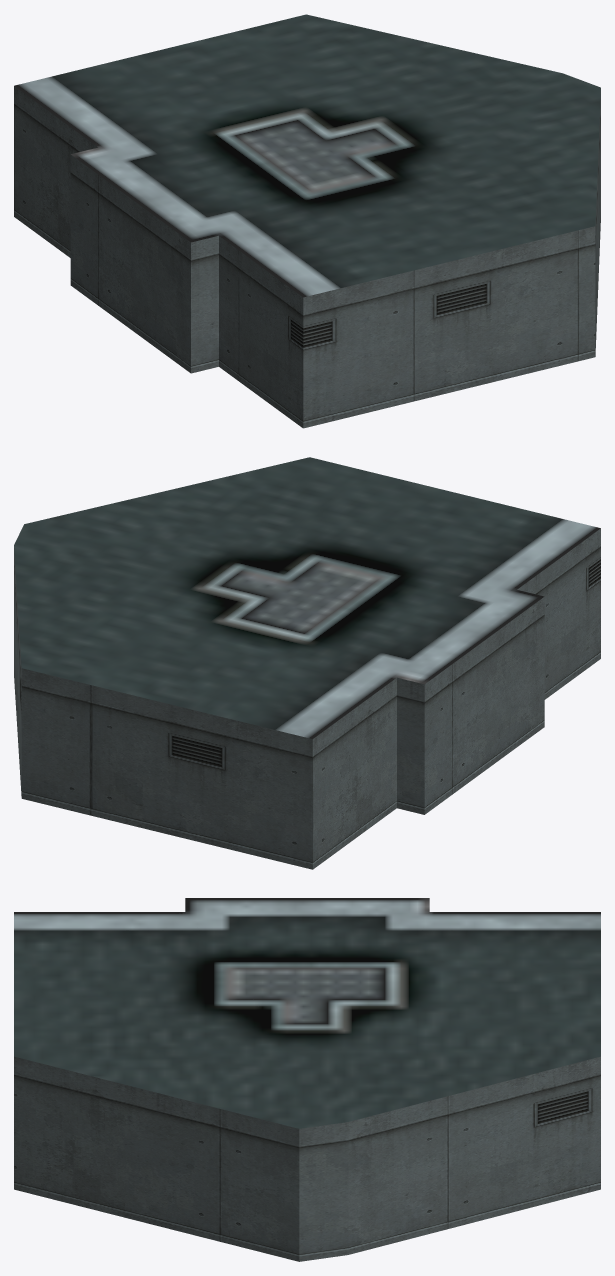
Rendered from medium_roof15.glb.
The picture shows the model from 3 angles, top to bottom: view 1: azimuth 30°, elevation 25°; view 2: azimuth 150°, elevation 25°; view 3: azimuth 270°, elevation 25°; orthographic projection.
Parts seen in each view (by area): view 1: buildings/saxarba/medium/medium_roof15; view 2: buildings/saxarba/medium/medium_roof15; view 3: buildings/saxarba/medium/medium_roof15.
Boxes of the visible parts, box(x1,y1,x2,y2) form: buildings/saxarba/medium/medium_roof15: box(14, 14, 600, 428); buildings/saxarba/medium/medium_roof15: box(14, 457, 600, 869); buildings/saxarba/medium/medium_roof15: box(14, 898, 600, 1261).
Bounding box in the file's own units: 67 × 18 × 72.
